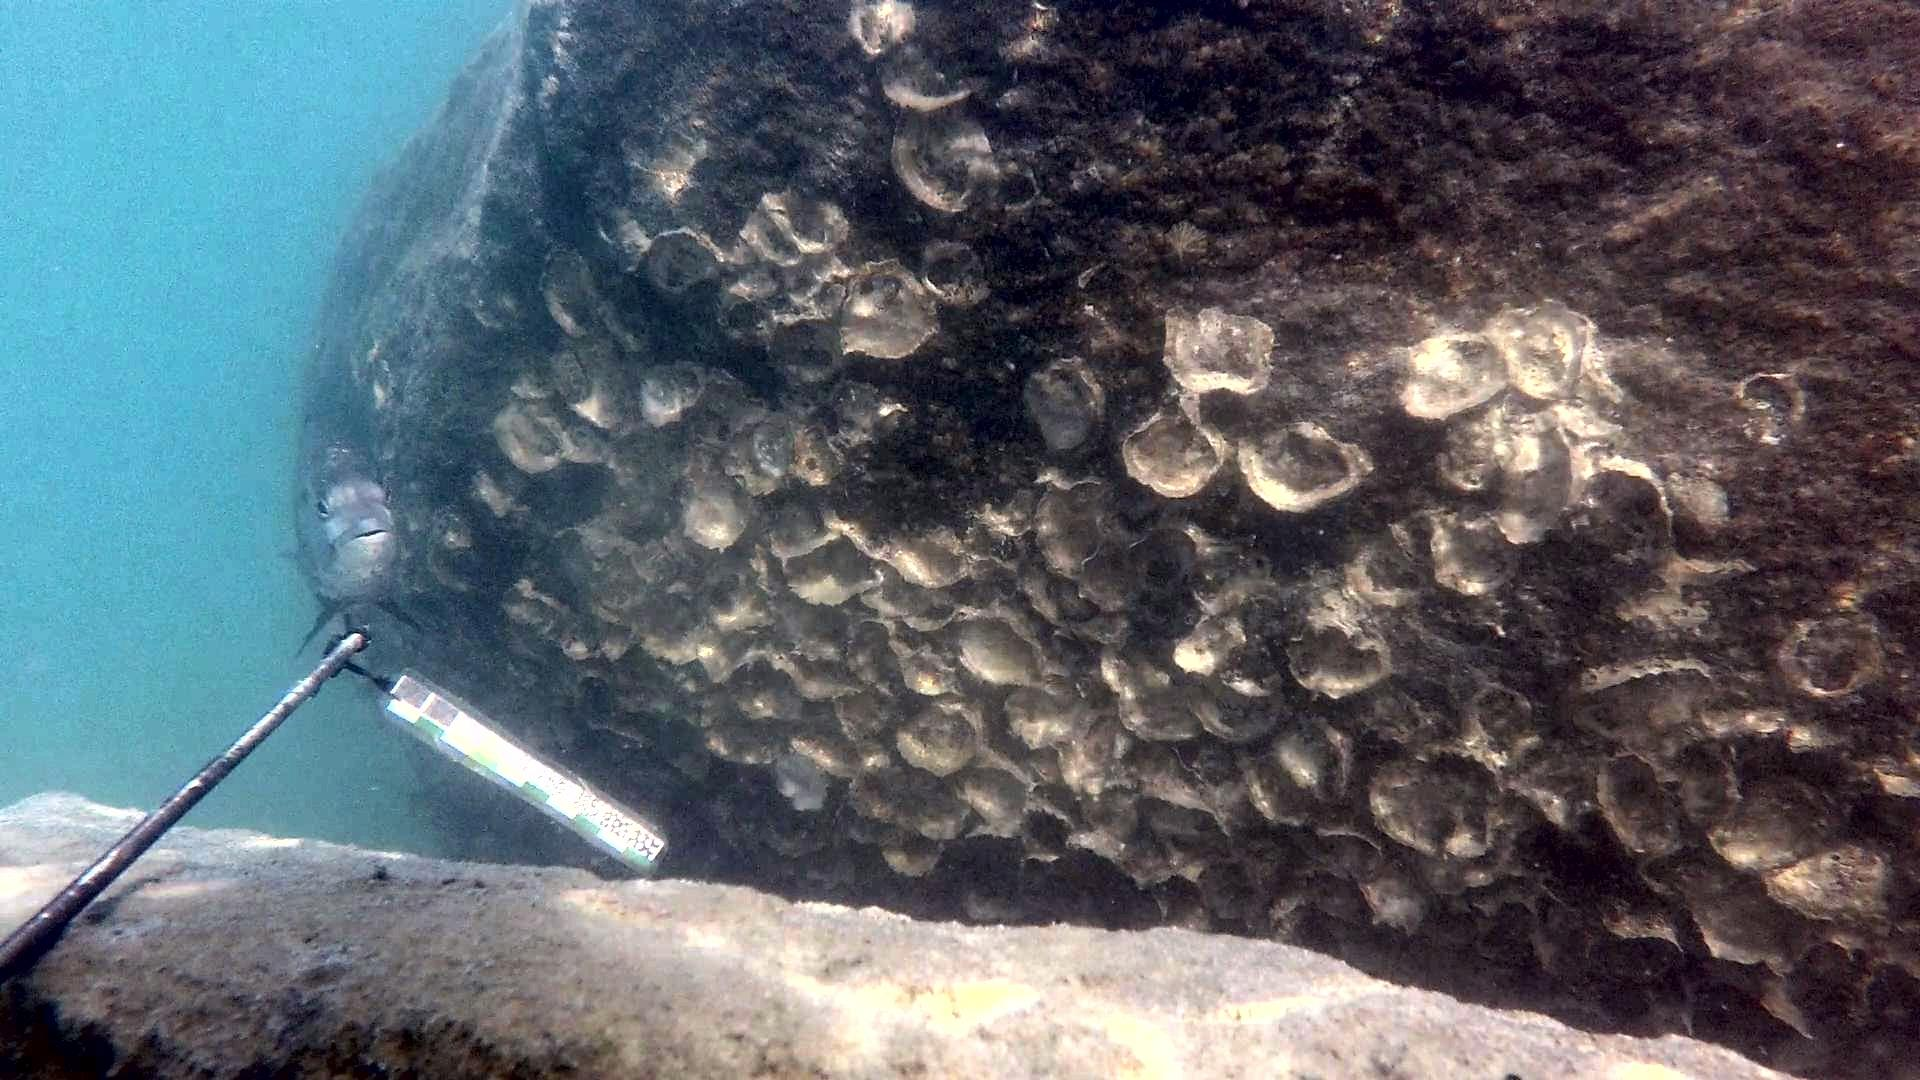acanthopagrus palmaris: (270, 410, 441, 655)
